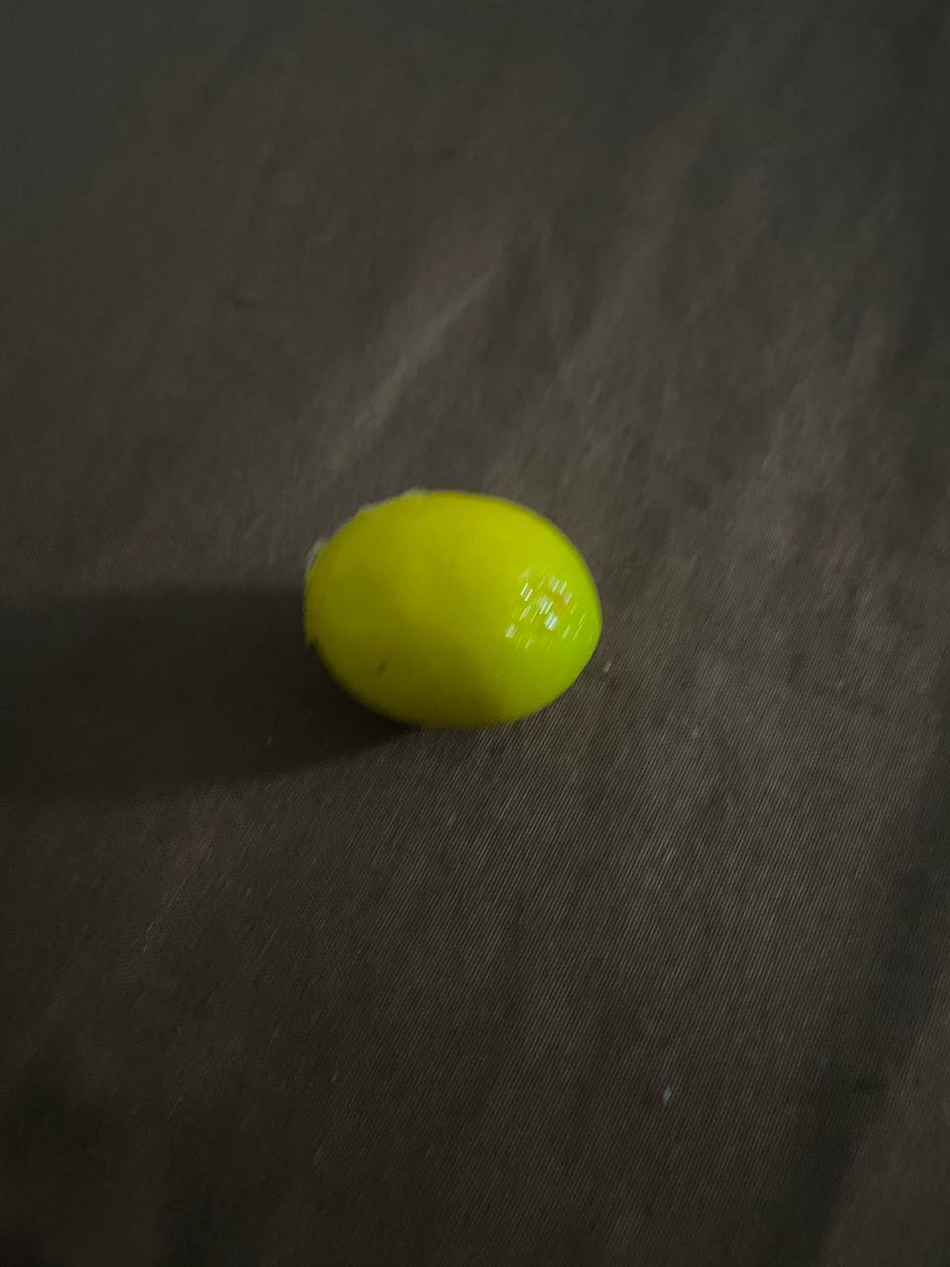lime_ripe: (300, 491, 607, 732)
